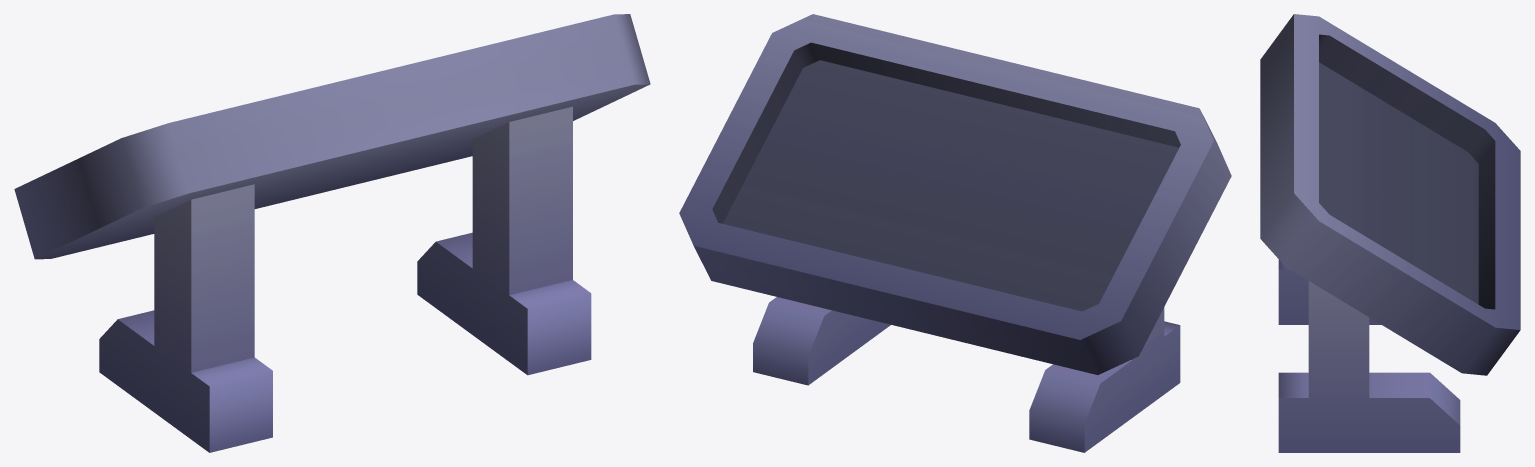
Rendered from screen-flat.glb.
3 views of the same model, side by side, from view 1: azimuth 30°, elevation 25°; view 2: azimuth 150°, elevation 25°; view 3: azimuth 270°, elevation 25° (orthographic). The views are drawn at different scales.
Visible parts, largest first — view 1: screen-flat; view 2: screen-flat; view 3: screen-flat.
Boxes of the visible parts, left/top/right/bottom form: screen-flat: left=14, top=14, right=650, bottom=452; screen-flat: left=679, top=14, right=1231, bottom=452; screen-flat: left=1260, top=14, right=1520, bottom=452.
Size of the model in its own units: 1.2 by 0.7453 by 0.6449.
1 material, 1 textured.
